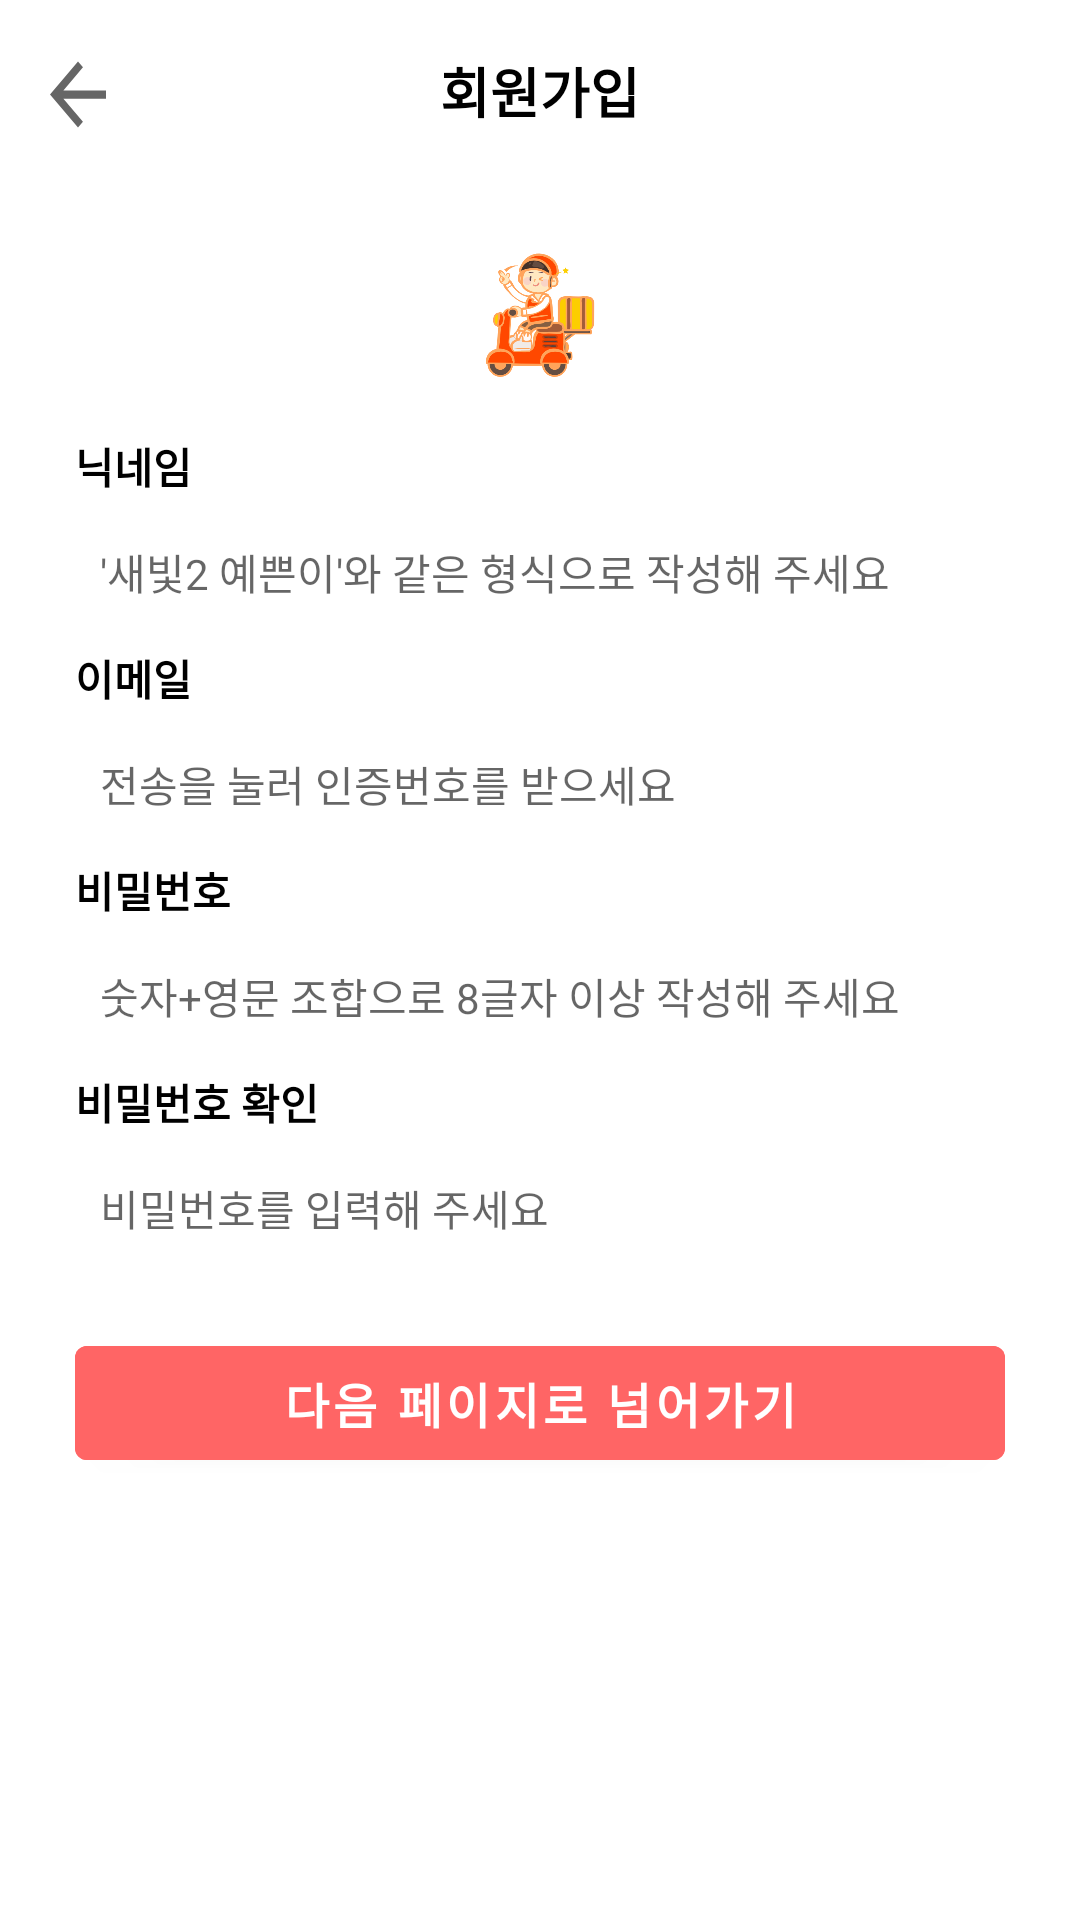

Point at icon controls on the screen. Image size 1080px×1920px, points as point (x, y).
arrow back: point (78, 94)
